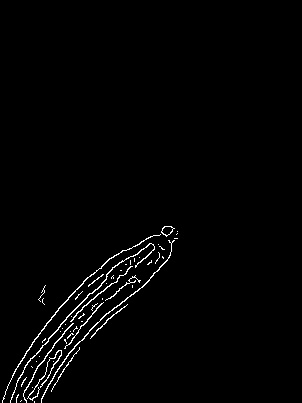cucumber: (2, 221, 186, 403)
